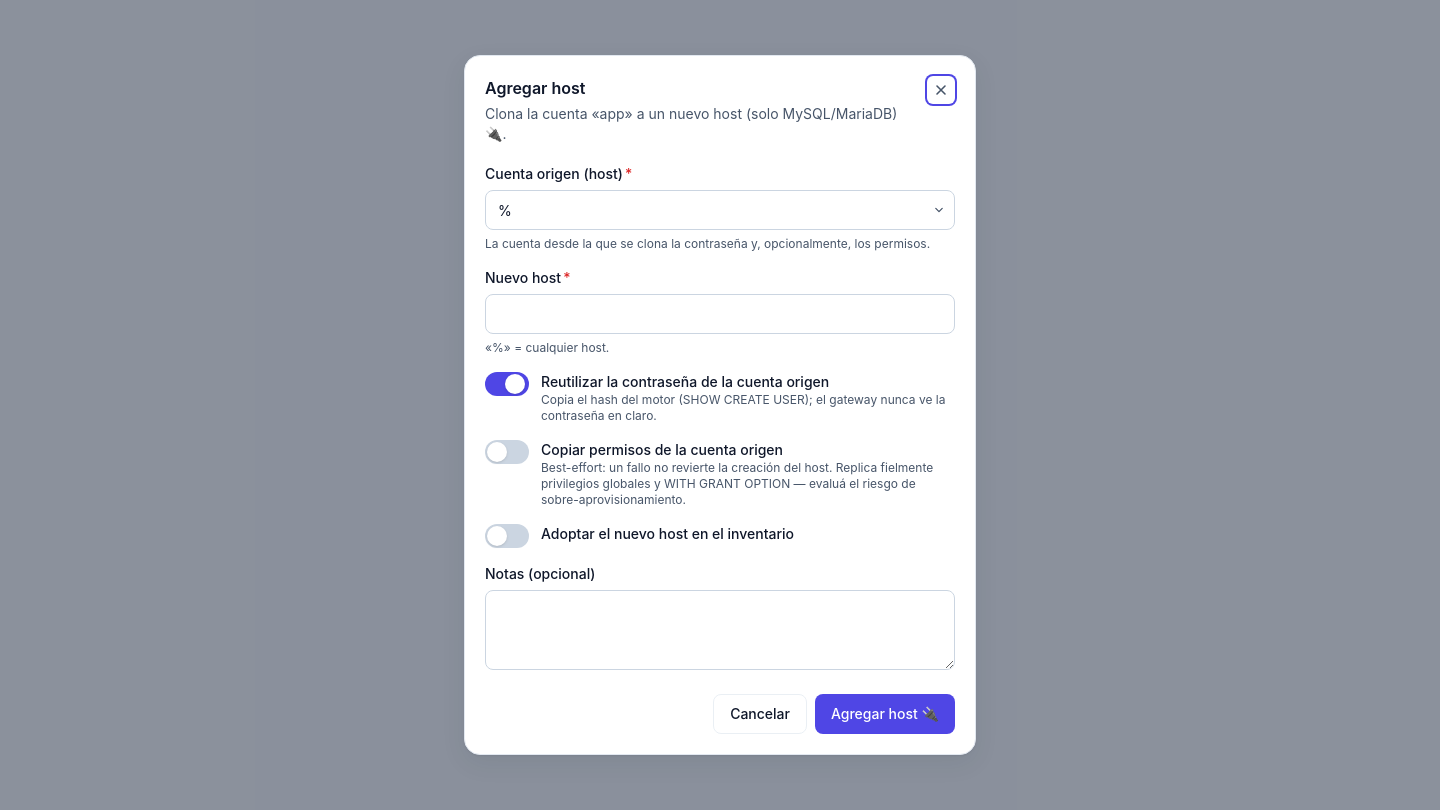
it: engine_users.credentials: contraseña opcional › owner: puede elegir una contraseña nueva para el host
Click the 1st switch named "Reutilizar la contraseña" at (507, 384), box [485,372,529,396]
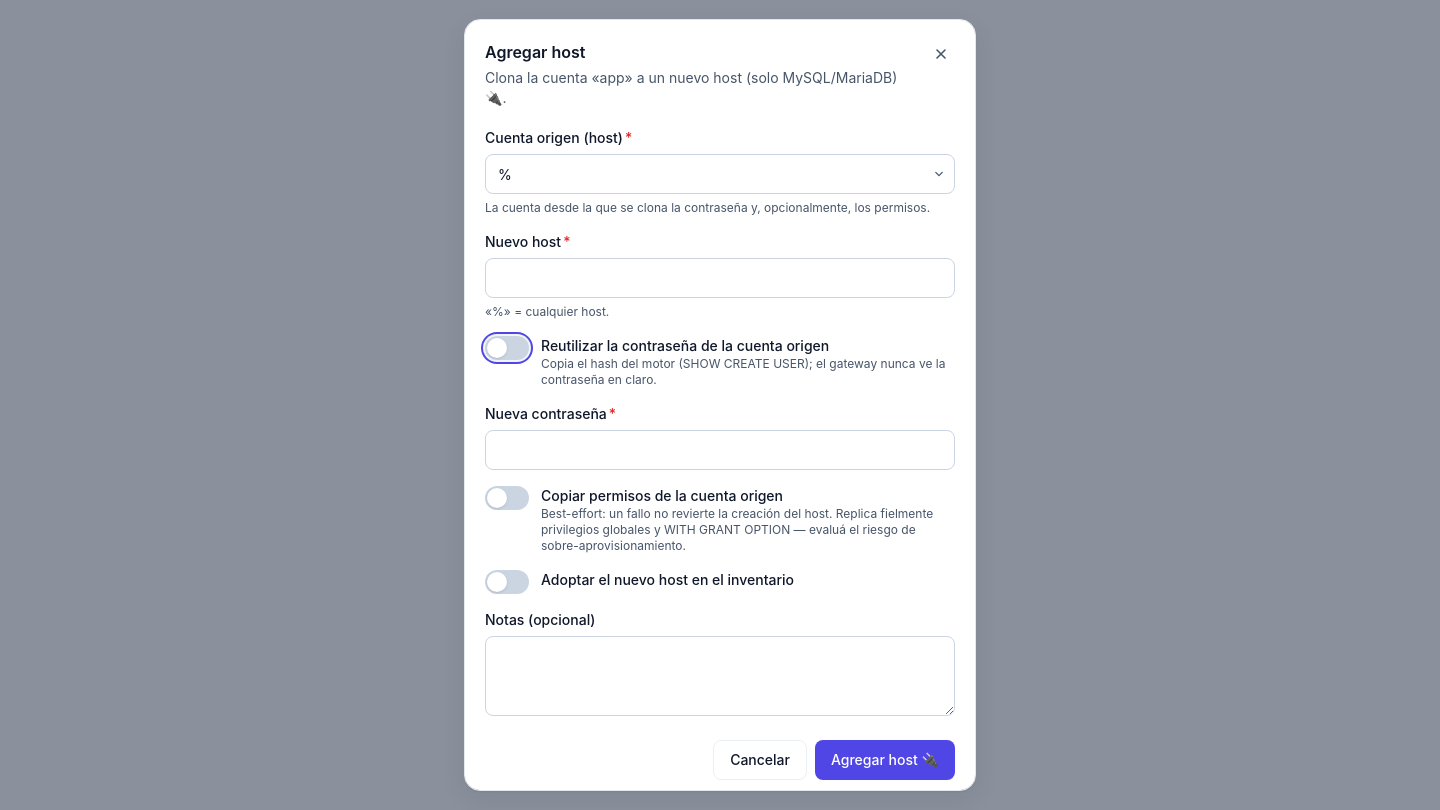
Expected: the password field labelled "Nueva contraseña*" is enabled, [485,430,955,470]
